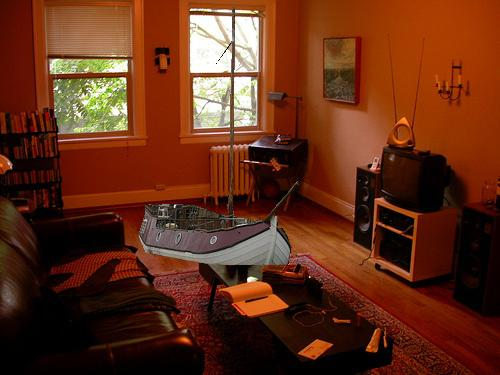tampered: (139, 7, 299, 265)
